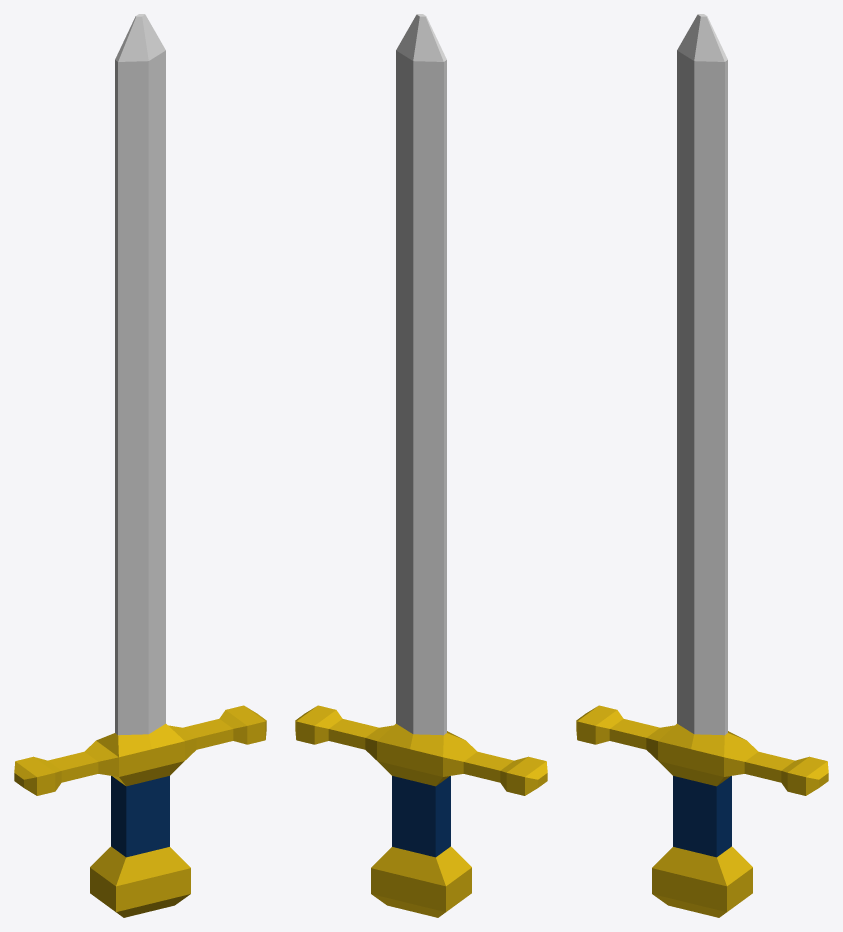
The model's file is Sword.fbx.
The picture shows the model from 3 angles, left to right: view 1: azimuth 30°, elevation 25°; view 2: azimuth 150°, elevation 25°; view 3: azimuth 330°, elevation 25°; orthographic projection.
Parts seen in each view (by area): view 1: Sword; view 2: Sword; view 3: Sword.
Part boxes in pixels (x1,y1,x2,y2): Sword: (14, 14, 266, 917); Sword: (295, 14, 547, 917); Sword: (576, 14, 828, 917).
Size of the model in its own units: 0.4369 by 1.53 by 0.0813.
